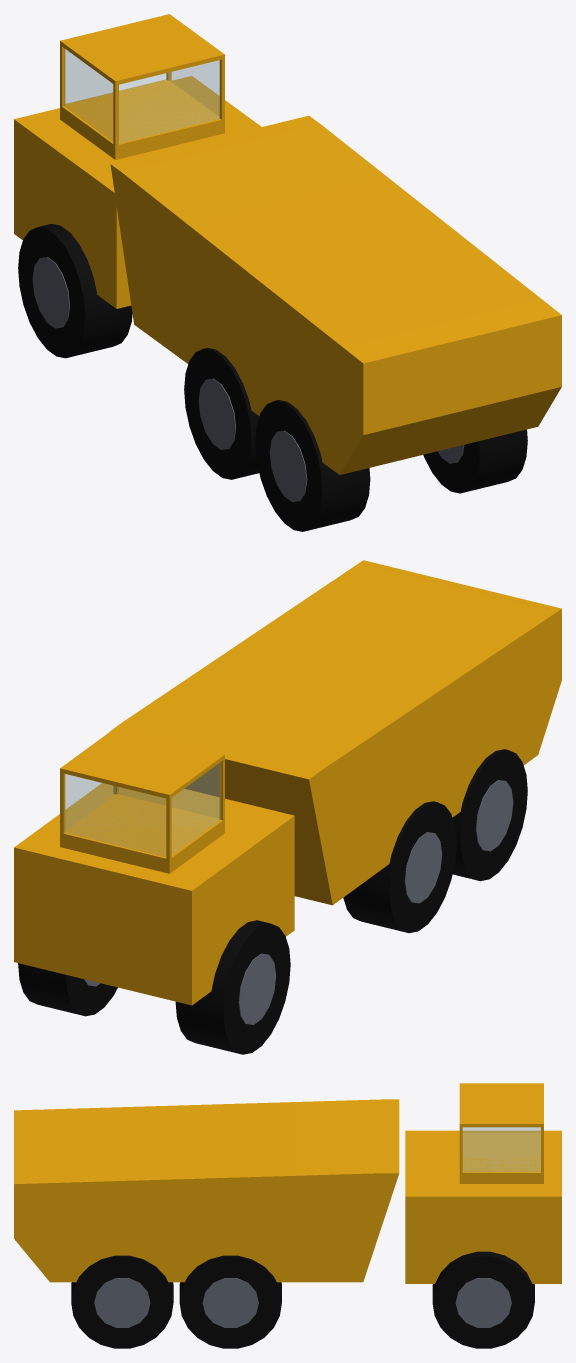
The model's file is plant.earthmoving.artic_dumper.glb.
The picture shows the model from 3 angles, top to bottom: view 1: azimuth 30°, elevation 25°; view 2: azimuth 150°, elevation 25°; view 3: azimuth 270°, elevation 25°; orthographic projection. The views are drawn at different scales.
Parts seen in each view (by area): view 1: main__plant_yellow, main__rubber, main__glass, main__steel_painted; view 2: main__plant_yellow, main__rubber, main__glass, main__steel_painted; view 3: main__plant_yellow, main__rubber, main__steel_painted, main__glass.
Boxes of the visible parts, bbox=[...] form: main__plant_yellow: bbox=[14, 14, 561, 474]; main__rubber: bbox=[18, 224, 527, 531]; main__glass: bbox=[64, 48, 219, 143]; main__steel_painted: bbox=[32, 257, 464, 501]; main__plant_yellow: bbox=[14, 560, 561, 1005]; main__rubber: bbox=[18, 749, 527, 1054]; main__glass: bbox=[65, 762, 220, 856]; main__steel_painted: bbox=[84, 780, 513, 1024]; main__plant_yellow: bbox=[14, 1083, 561, 1283]; main__rubber: bbox=[71, 1251, 534, 1348]; main__steel_painted: bbox=[94, 1278, 511, 1327]; main__glass: bbox=[463, 1127, 540, 1171].
Bounding box in the file's own units: 3.02 × 3.79 × 9.1.
